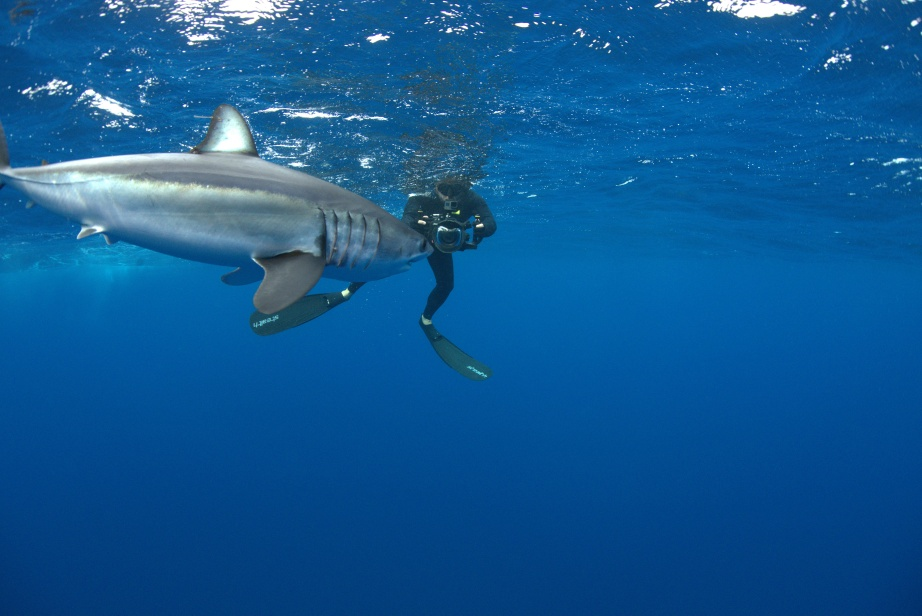Mako: (1, 100, 443, 324)
